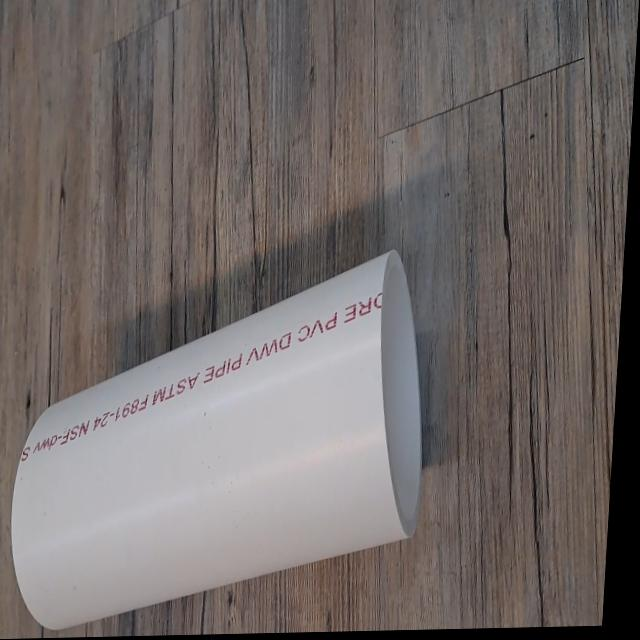CORAL: (0, 235, 443, 622)
